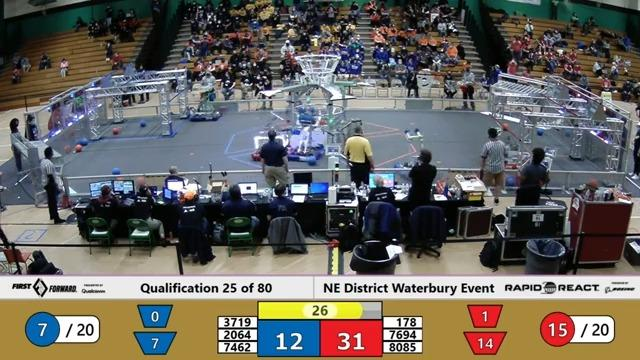robot: (386, 124, 441, 185), (178, 84, 226, 128), (246, 118, 292, 161), (493, 127, 535, 172), (285, 125, 323, 165)
